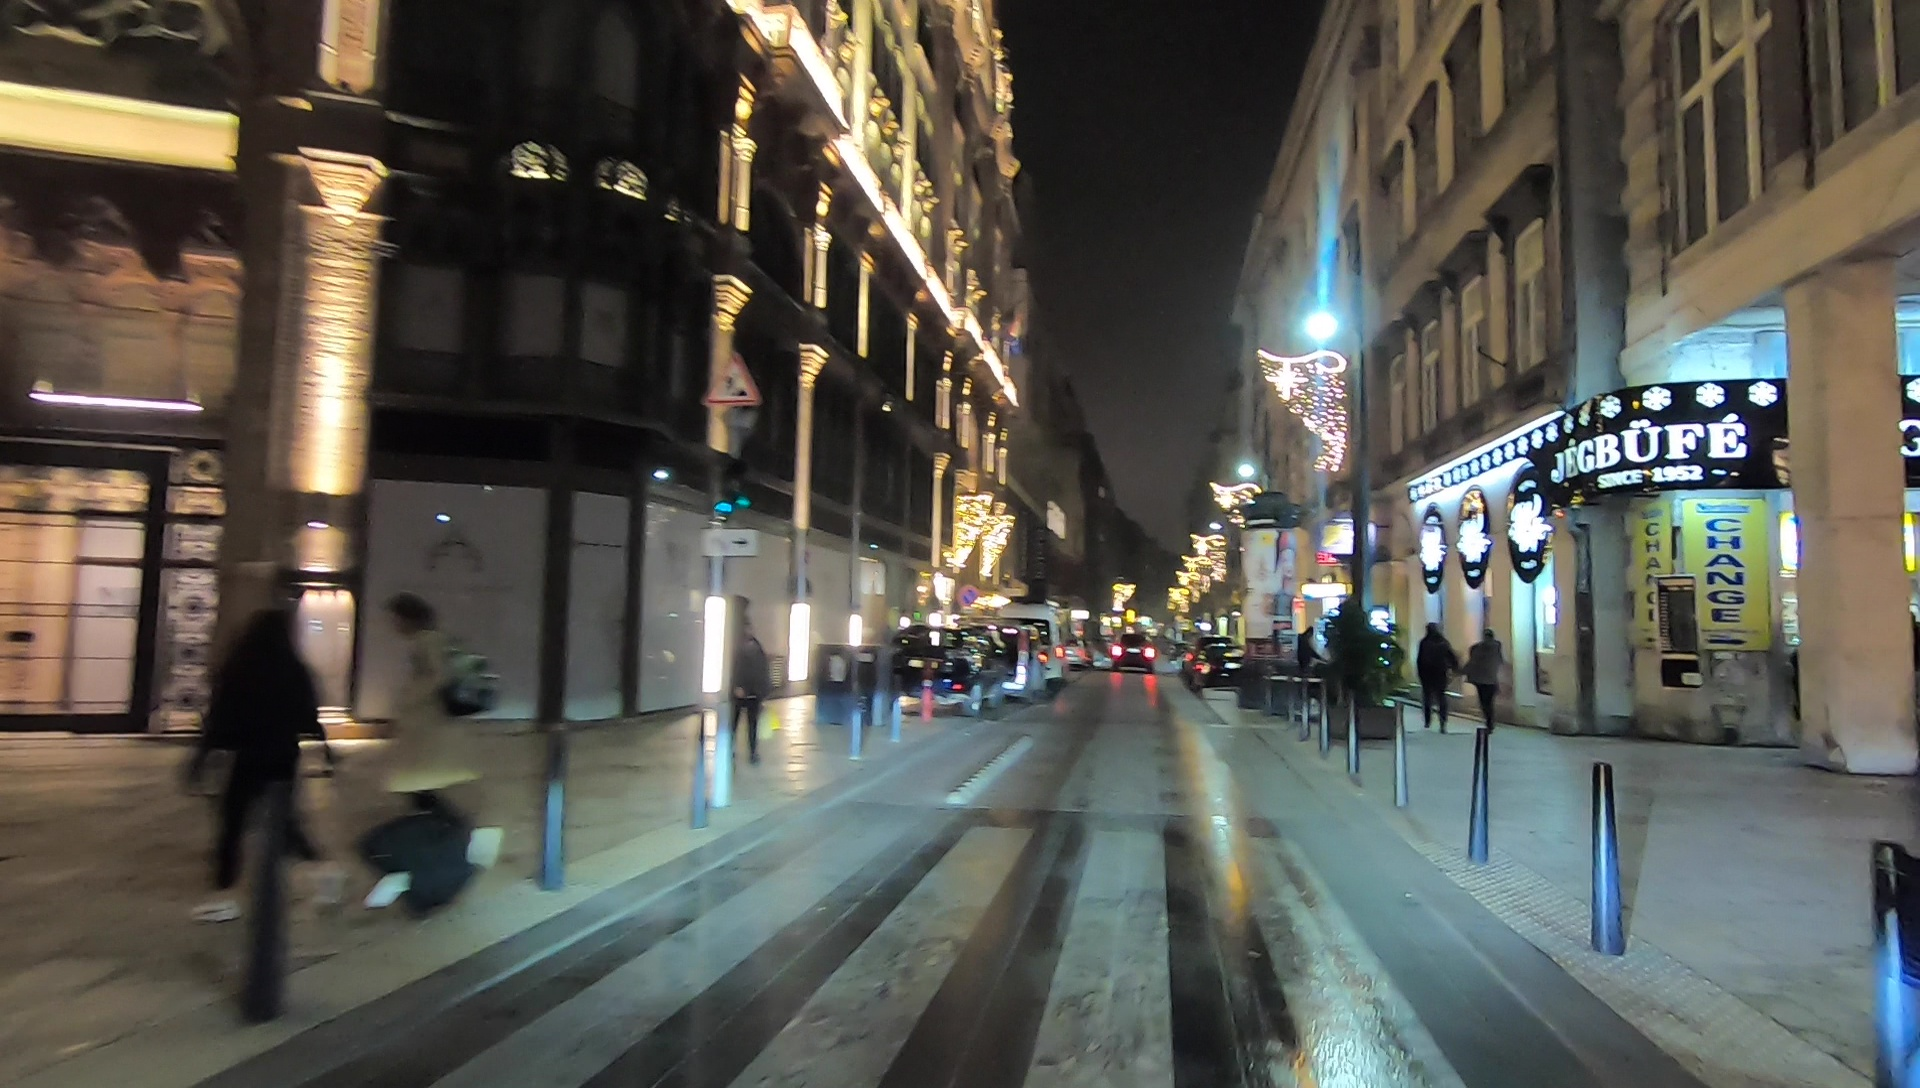person: (199, 587, 352, 902), (380, 600, 515, 895), (723, 630, 765, 750), (1465, 628, 1504, 723), (1417, 628, 1452, 728)
